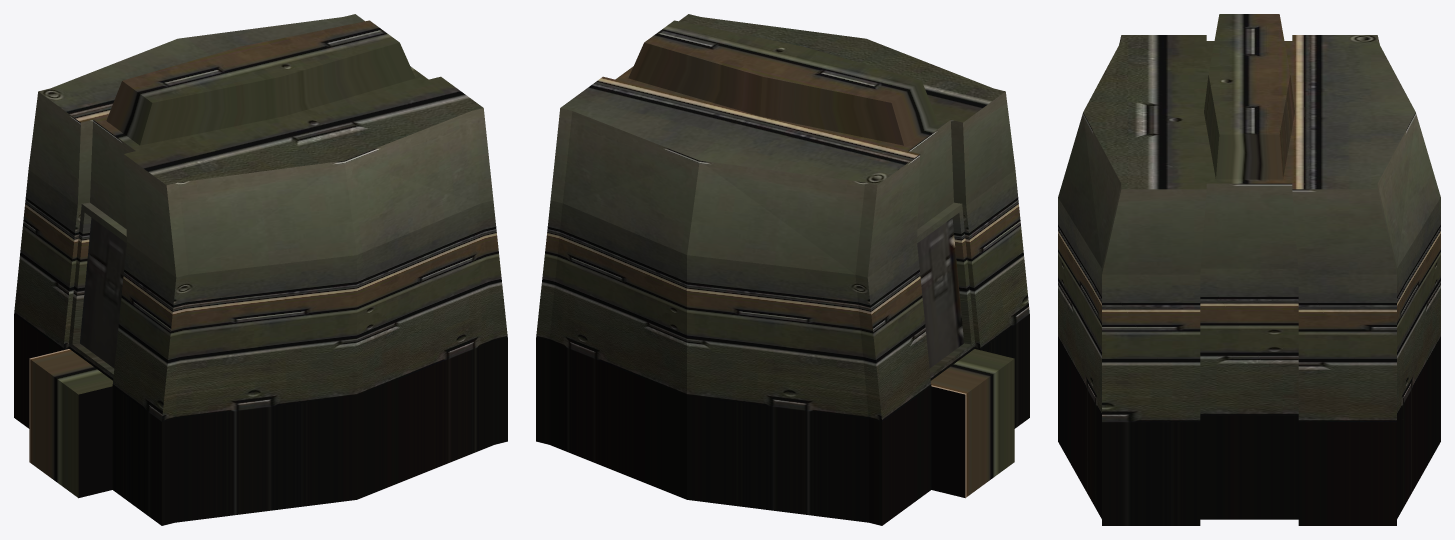
The model's file is house.dae.
3 renders of one model, left to right at view 1: azimuth 30°, elevation 25°; view 2: azimuth 150°, elevation 25°; view 3: azimuth 270°, elevation 25°, orthographic.
Visible parts, largest first — view 1: house; view 2: house; view 3: house.
Part boxes in pixels (x1,y1,x2,y2): house: (14,14,507,525); house: (536,14,1029,525); house: (1058,14,1440,525).
Size of the model in its own units: 15.47 by 13.52 by 14.31.
